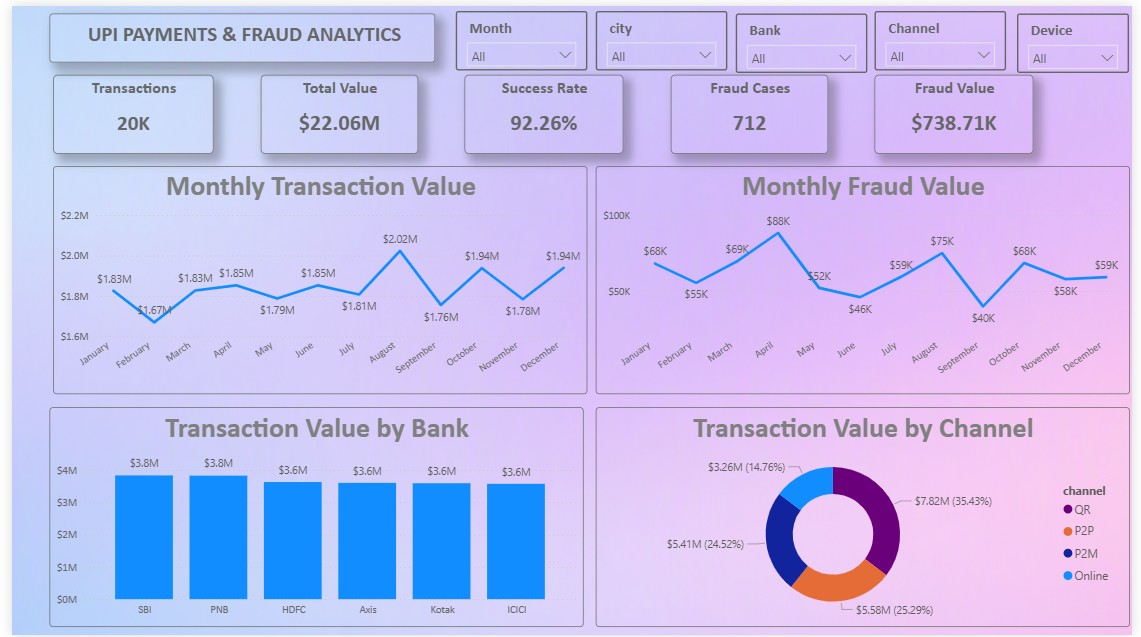

This screenshot's page, from the dashboard's own definition file:
{"tool":"powerbi","page":{"name":"Executive Overview","canvas":[1280,720],"ordinal":0},"visuals":[{"type":"card","title":"Transactions  ","fields":{"Values":["upi_transactions1.Total Transactions"]},"box":[47.1,78.5,183.3,90.3],"z":0},{"type":"textbox","box":[42.9,8,440.6,56.2],"z":1000},{"type":"card","title":"Total Value","fields":{"Values":["upi_transactions1.Total Value"]},"box":[283.8,78.8,180.2,90.1],"z":2000},{"type":"card","title":"Success Rate  ","fields":{"Values":["upi_transactions1.Success Rate %"]},"box":[517.5,78.9,181.8,90.1],"z":3000},{"type":"card","title":" Fraud Cases ","fields":{"Values":["upi_transactions1.Fraud Cases"]},"box":[752.7,79,180.2,90.1],"z":4000},{"type":"card","title":"Fraud Value   ","fields":{"Values":["upi_transactions1.Fraud Value"]},"box":[986.3,79,181.8,90.1],"z":5000},{"type":"lineChart","title":"Monthly Transaction Value","fields":{"Y":["upi_transactions1.Total Value"],"Category":["upi_transactions1.month.Variation.Date Hierarchy.Month"]},"box":[47.4,183.4,610.1,260.8],"z":6000},{"type":"lineChart","title":" Monthly Fraud Value    ","fields":{"Category":["upi_transactions1.month.Variation.Date Hierarchy.Month"],"Y":["upi_transactions1.Fraud Value"]},"box":[667,183.4,610.1,260.8],"z":7000},{"type":"columnChart","title":" Transaction Value by Bank  ","fields":{"Y":["upi_transactions1.Total Value"],"Category":["upi_transactions1.bank"]},"box":[42.7,458.4,610.1,251.3],"z":8000},{"type":"donutChart","title":" Transaction Value by Channel","fields":{"Category":["upi_transactions1.channel"],"Y":["upi_transactions1.Total Value"]},"box":[667,458.4,610.1,251.3],"z":9000},{"type":"slicer","fields":{"Values":["upi_transactions1.channel"]},"box":[986.3,6.3,150.2,68],"z":10000},{"type":"slicer","fields":{"Values":["upi_transactions1.bank"]},"box":[826.7,7.9,150.2,68],"z":11000},{"type":"slicer","fields":{"Values":["upi_transactions1.city"]},"box":[667,6.3,150.2,68],"z":12000},{"type":"slicer","fields":{"Values":["upi_transactions1.month"]},"box":[507.4,6.3,150.2,68],"z":13000},{"type":"slicer","fields":{"Values":["upi_transactions1.device_type"]},"box":[1149.1,7.9,128,68],"z":14000}]}

Visuals, with their boxes in screenshot pixels (x1, y1, x2, y2), scaled from the page's 1280x720 canvas onto the 1141x637 screenshot:
"Transactions  " card: l=42, t=69, r=205, b=149
textbox: l=38, t=7, r=431, b=57
"Total Value" card: l=253, t=70, r=414, b=149
"Success Rate  " card: l=461, t=70, r=623, b=150
" Fraud Cases " card: l=671, t=70, r=832, b=150
"Fraud Value   " card: l=879, t=70, r=1041, b=150
"Monthly Transaction Value" lineChart: l=42, t=162, r=586, b=393
" Monthly Fraud Value    " lineChart: l=595, t=162, r=1138, b=393
" Transaction Value by Bank  " columnChart: l=38, t=406, r=582, b=628
" Transaction Value by Channel" donutChart: l=595, t=406, r=1138, b=628
slicer - upi_transactions1.channel: l=879, t=6, r=1013, b=66
slicer - upi_transactions1.bank: l=737, t=7, r=871, b=67
slicer - upi_transactions1.city: l=595, t=6, r=728, b=66
slicer - upi_transactions1.month: l=452, t=6, r=586, b=66
slicer - upi_transactions1.device_type: l=1024, t=7, r=1138, b=67
